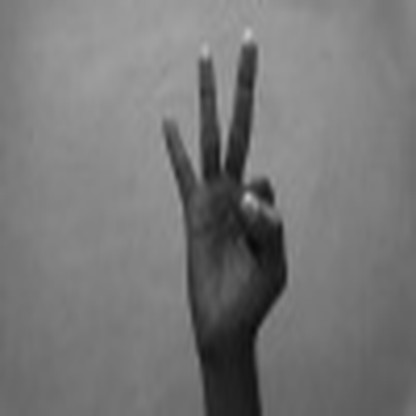f: (156, 22, 293, 347)
